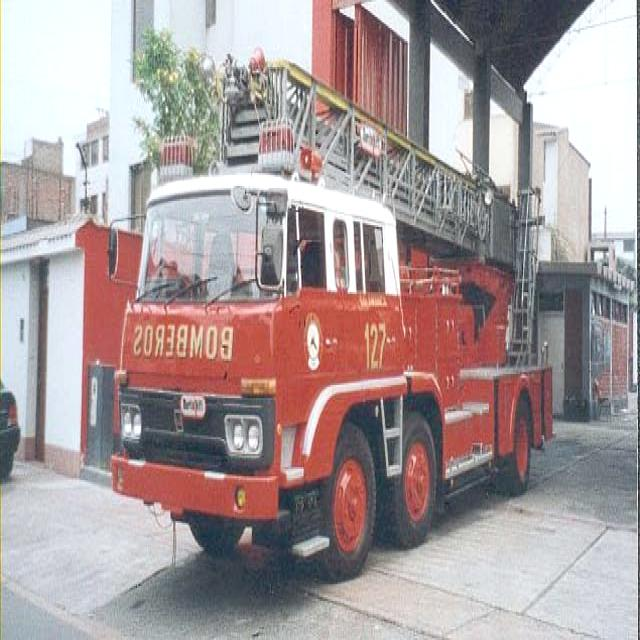truck: (107, 165, 557, 574)
